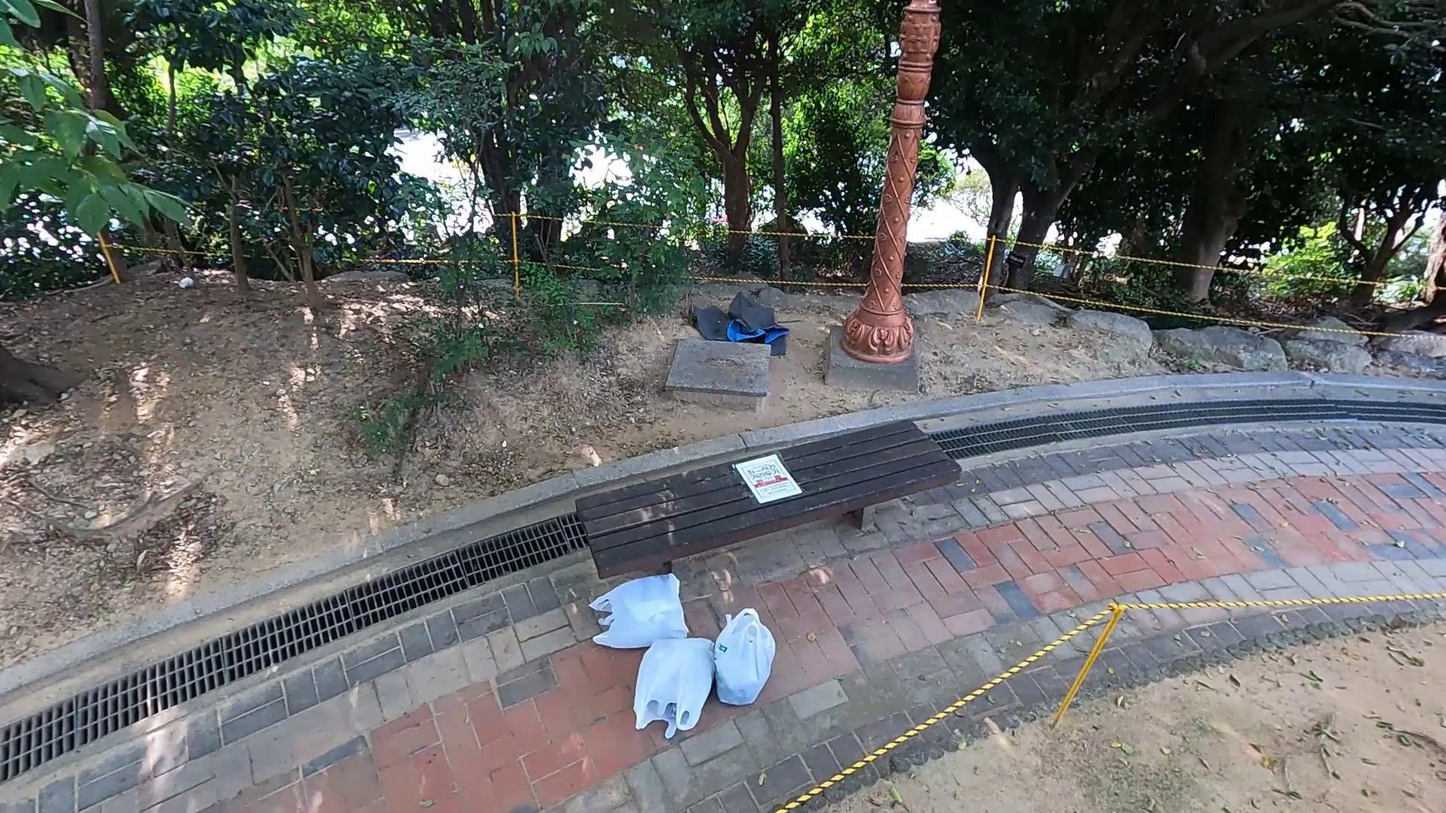trash: (635, 633, 716, 745), (703, 604, 781, 708), (591, 572, 689, 653), (684, 287, 792, 360)
